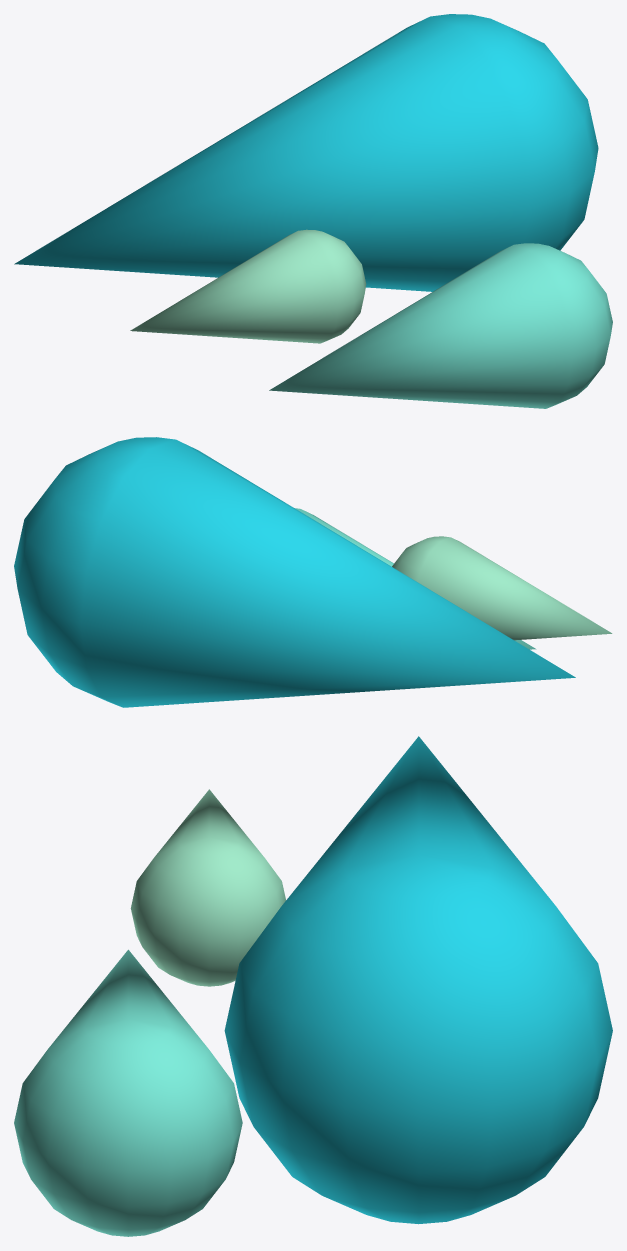
The model's file is Pljuvačka.fbx.
3 renders of one model, top to bottom at view 1: azimuth 30°, elevation 25°; view 2: azimuth 150°, elevation 25°; view 3: azimuth 270°, elevation 25°, orthographic. The views are drawn at different scales.
Visible parts, largest first — view 1: SPIT; view 2: SPIT; view 3: SPIT.
Boxes of the visible parts, x1,y1,x2,y2 form: SPIT: (14, 14, 612, 408); SPIT: (14, 437, 612, 707); SPIT: (14, 736, 612, 1236).
Size of the model in its own units: 55.27 by 27.02 by 37.17.
